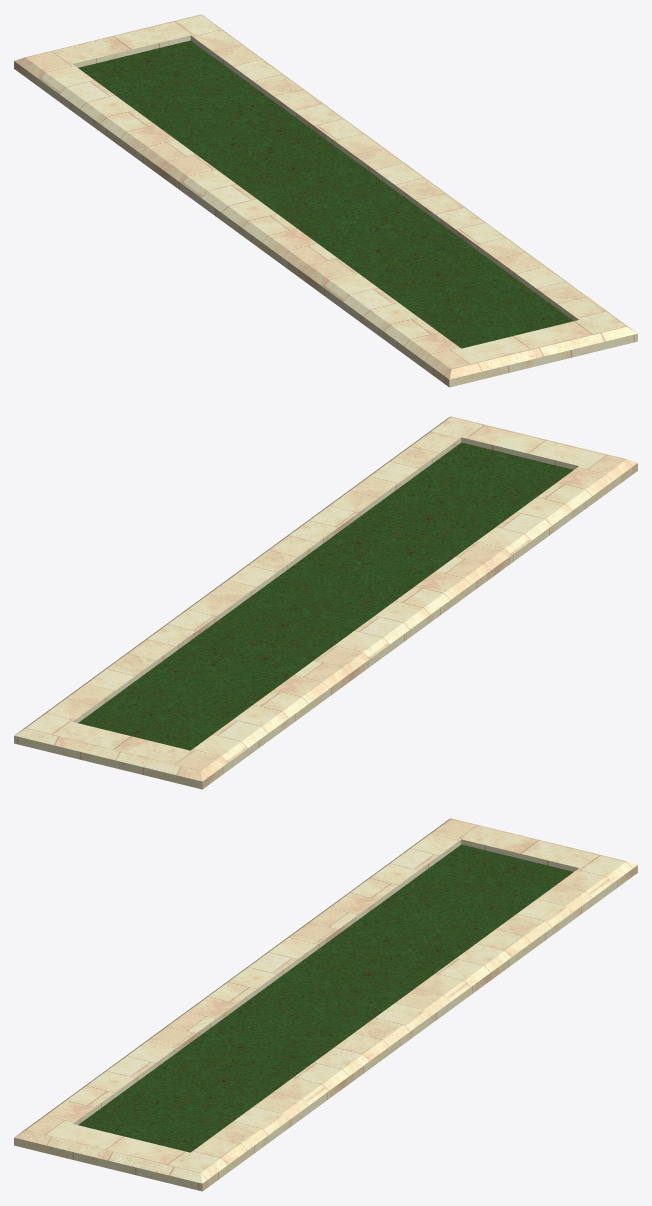
File: SM_garden_3x12.glb
The picture shows the model from 3 angles, top to bottom: view 1: azimuth 30°, elevation 25°; view 2: azimuth 150°, elevation 25°; view 3: azimuth 330°, elevation 25°; orthographic projection.
Parts seen in each view (by area): view 1: SM_garden_3x12; view 2: SM_garden_3x12; view 3: SM_garden_3x12.
Part boxes in pixels (x1,y1,x2,y2): SM_garden_3x12: (14, 14, 637, 387); SM_garden_3x12: (14, 416, 637, 789); SM_garden_3x12: (14, 818, 637, 1191).
Size of the model in its own units: 3 by 0.2 by 12.
2 materials, 2 textured.
